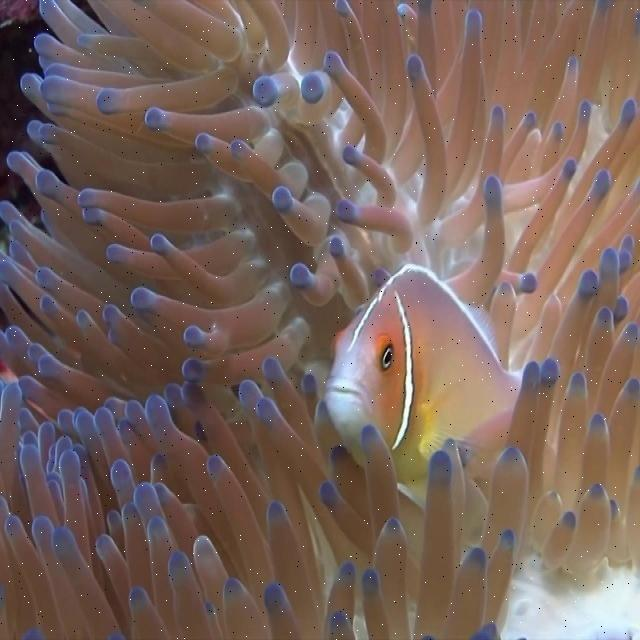aquatic plants: (0, 0, 639, 639)
fish: (329, 263, 524, 495)
